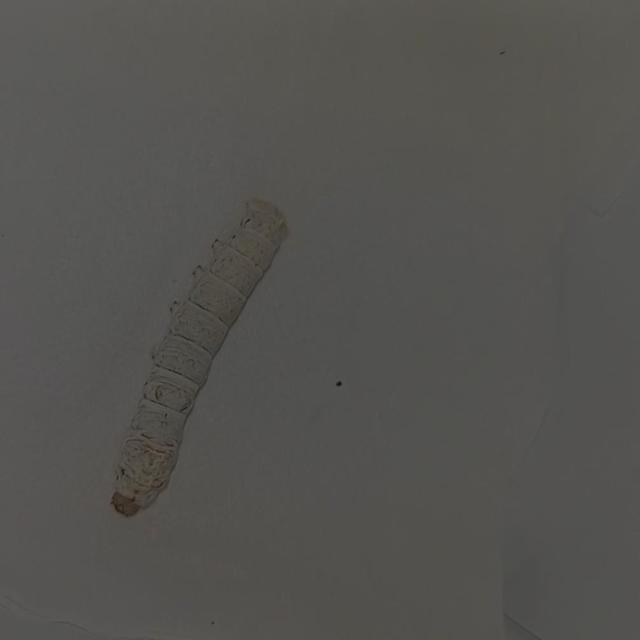Healthy: (83, 180, 323, 542)
